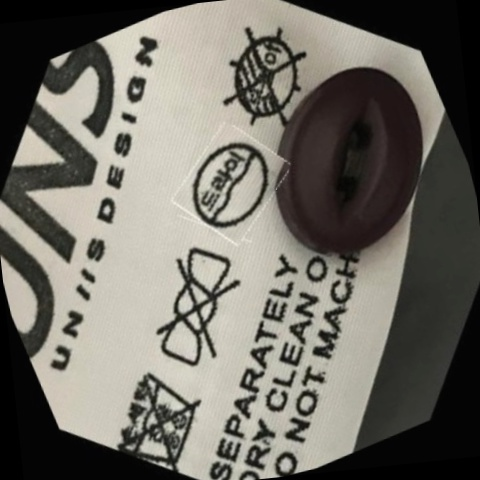DN_dry: (200, 12, 330, 143)
DN_wring: (125, 236, 271, 382)
dry_clean: (173, 125, 291, 245)
hand_wash: (96, 350, 221, 480)
